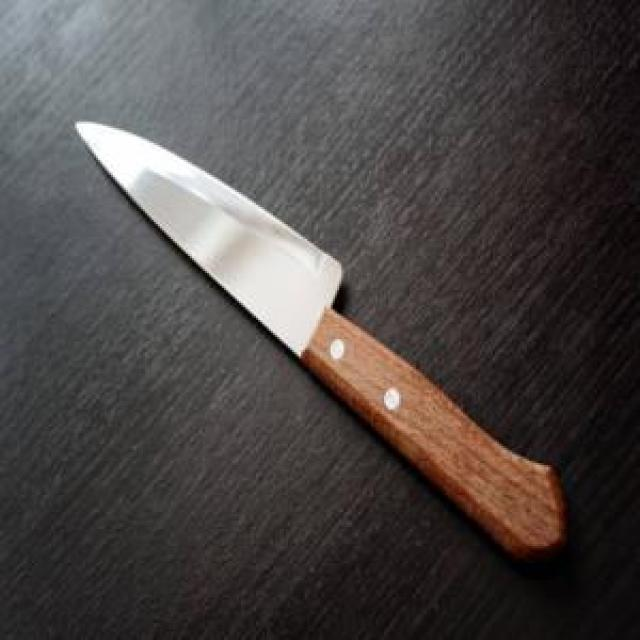knife: (24, 91, 577, 568)
